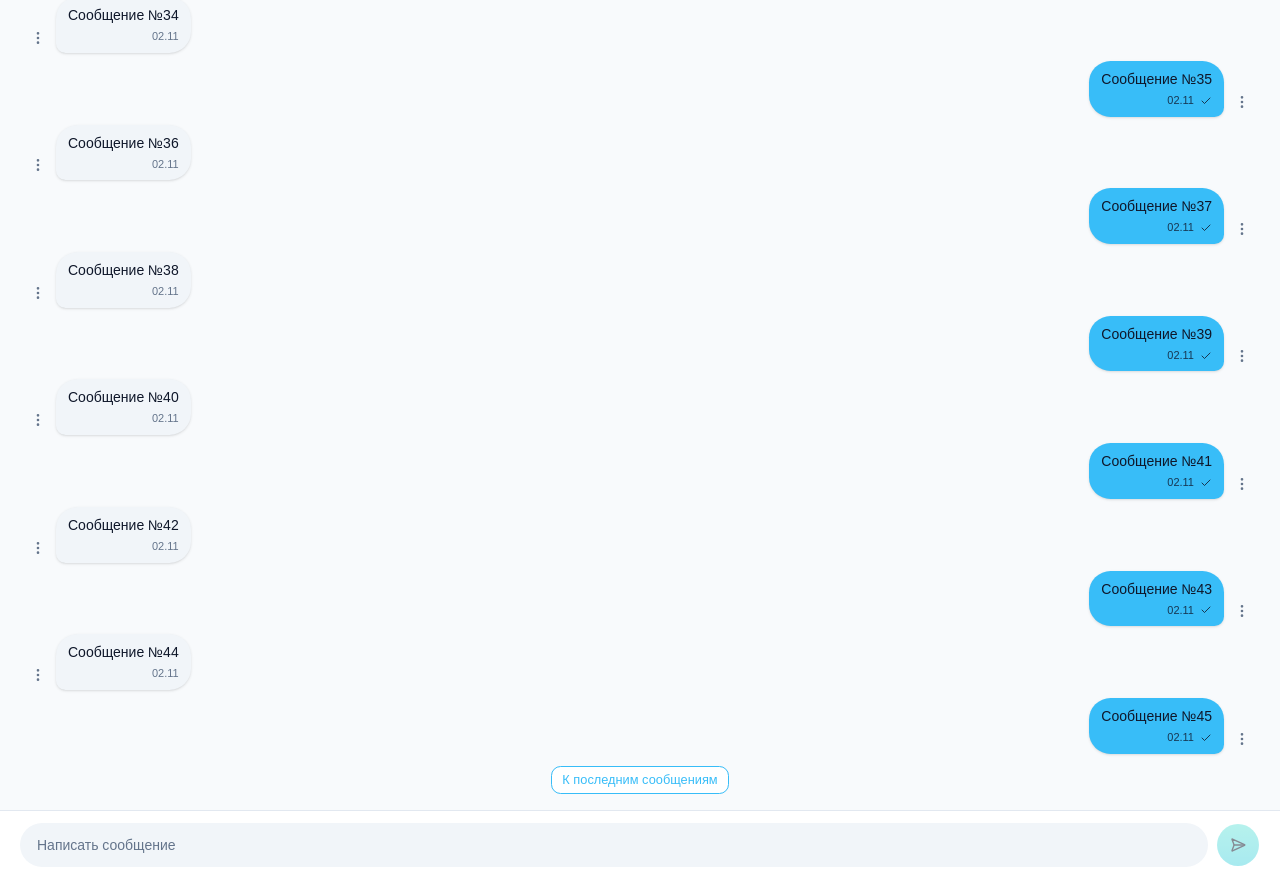
ChatThread jump to message › returns to the latest messages from the window
(page scrolled)
What coordinates should you click on to do the following:
click the button "К последним сообщениям"
I would click on:
 (640, 780)
Its box is [551,766,729,794].
(page scrolled)
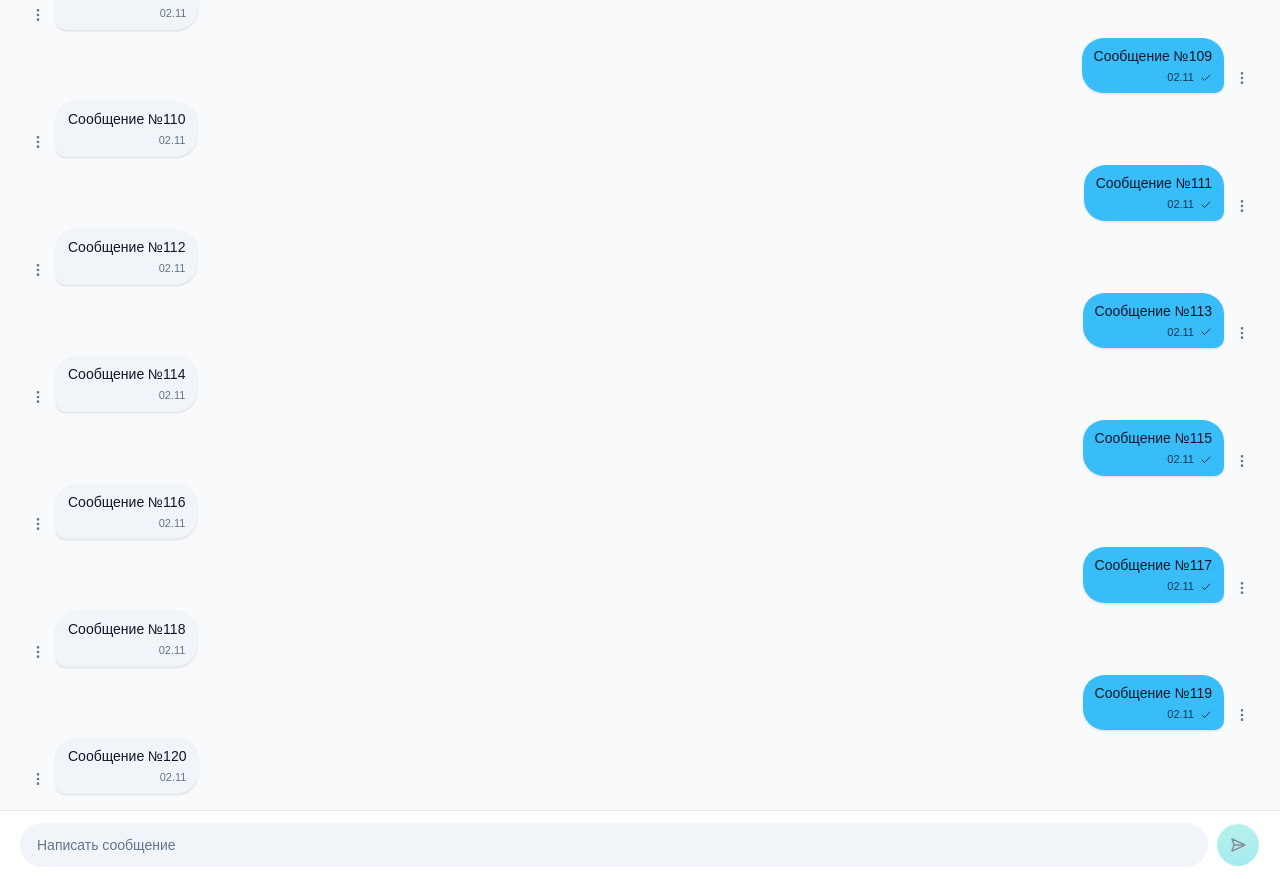
Result: the button "К последним сообщениям" is gone
